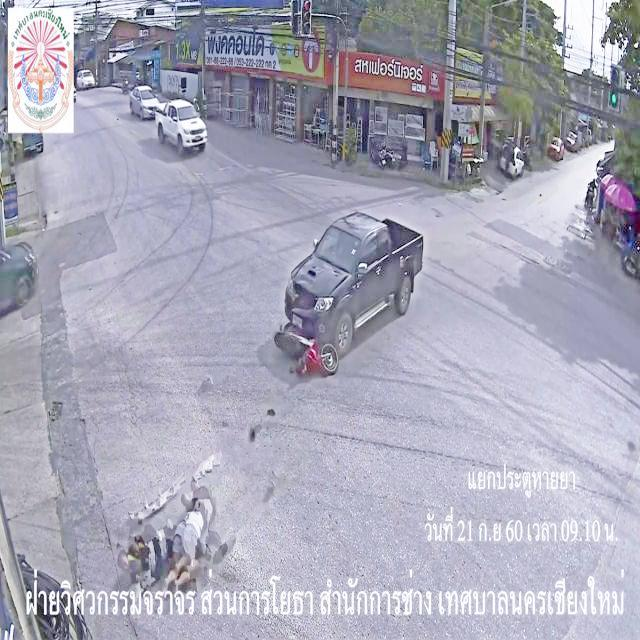Car: (286, 202, 429, 352), (155, 102, 206, 152), (128, 86, 160, 118), (74, 72, 95, 90)
Minor Accident: (246, 186, 429, 386)
Motor: (256, 300, 344, 385)
Not Accident: (128, 85, 210, 156)
